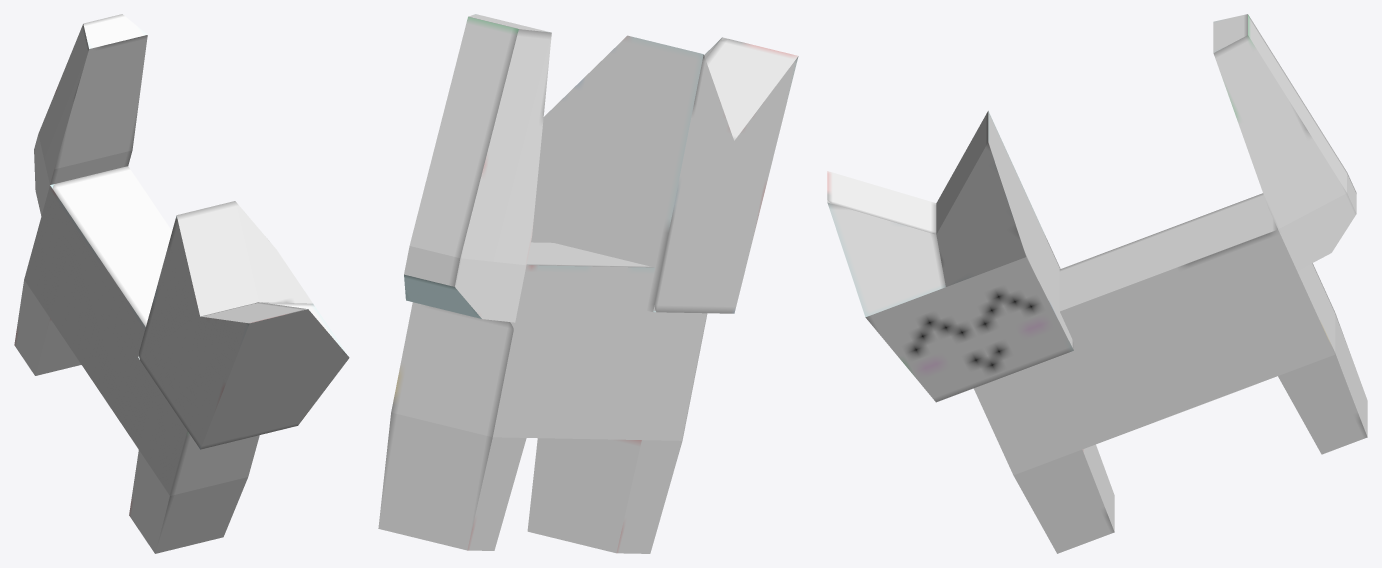
The model's file is Cat Model.fbx.
3 renders of one model, left to right at view 1: azimuth 30°, elevation 25°; view 2: azimuth 150°, elevation 25°; view 3: azimuth 270°, elevation 25°, orthographic. The views are drawn at different scales.
Parts seen in each view (by area): view 1: cuboid; view 2: cuboid; view 3: cuboid.
Part boxes in pixels (x1=…): cuboid: x1=14, y1=14, x2=349, y2=553; cuboid: x1=378, y1=14, x2=798, y2=553; cuboid: x1=827, y1=14, x2=1367, y2=553.
Bounding box in the file's own units: 37.5 × 142 × 136.
1 material, 1 textured.
